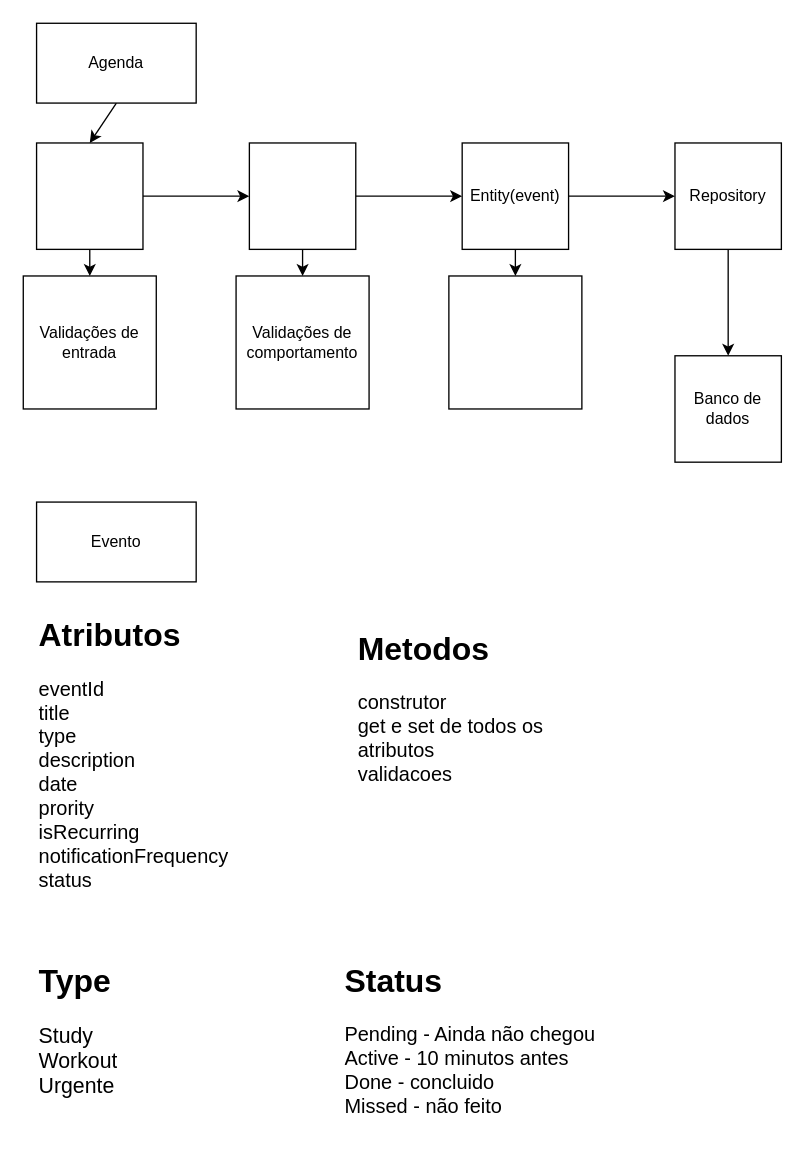
This 805x1168 diagram has some shape labels left out. Here are the shapes that lost their labels. From the top down, the centre of each, then its label:
the point at 89,195: Controller
the point at 302,195: UseCase
the point at 515,342: Validações de estado
